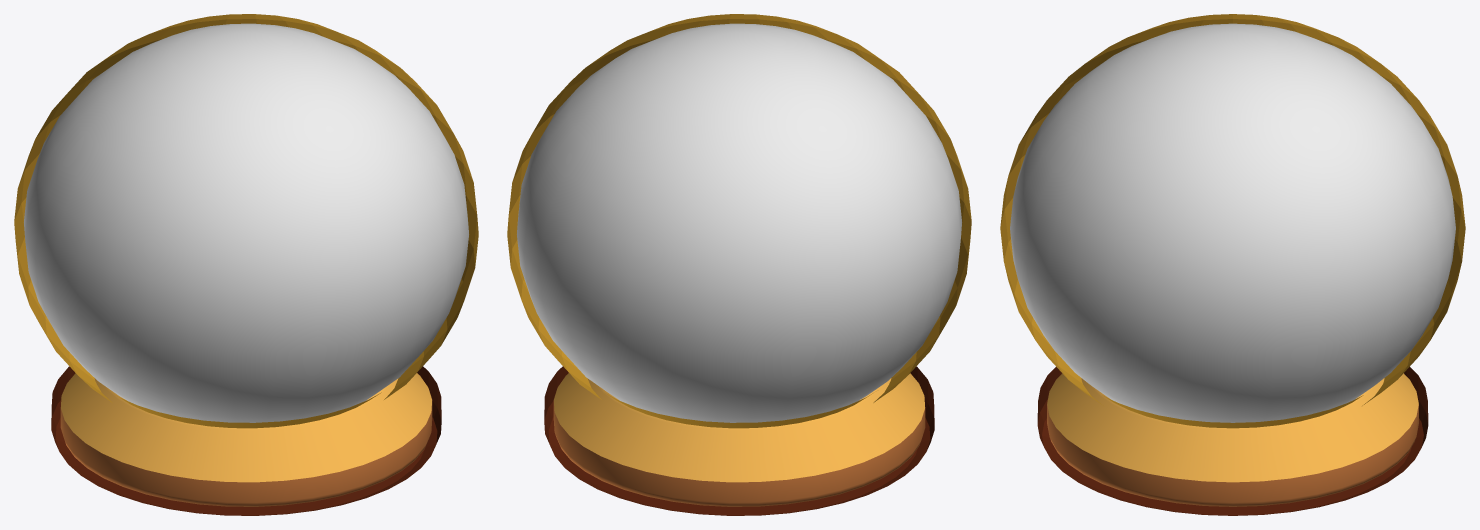
Rendered from Lamp.glb.
3 renders of one model, left to right at view 1: azimuth 30°, elevation 25°; view 2: azimuth 150°, elevation 25°; view 3: azimuth 270°, elevation 25°, orthographic.
Parts seen in each view (by area): view 1: LampGlow, Lamp, Lamp_Outline; view 2: LampGlow, Lamp, Lamp_Outline; view 3: LampGlow, Lamp, Lamp_Outline.
Part boxes in pixels (x1,y1,x2,y2): LampGlow: [24, 23, 468, 422]; Lamp: [60, 373, 432, 506]; Lamp_Outline: [14, 14, 478, 515]; LampGlow: [517, 23, 961, 422]; Lamp: [553, 373, 925, 506]; Lamp_Outline: [507, 14, 971, 515]; LampGlow: [1010, 23, 1455, 422]; Lamp: [1047, 373, 1418, 506]; Lamp_Outline: [1000, 14, 1465, 515].
Bounding box in the file's own units: 3.13 × 2.98 × 3.13.
1 material, 1 textured.
